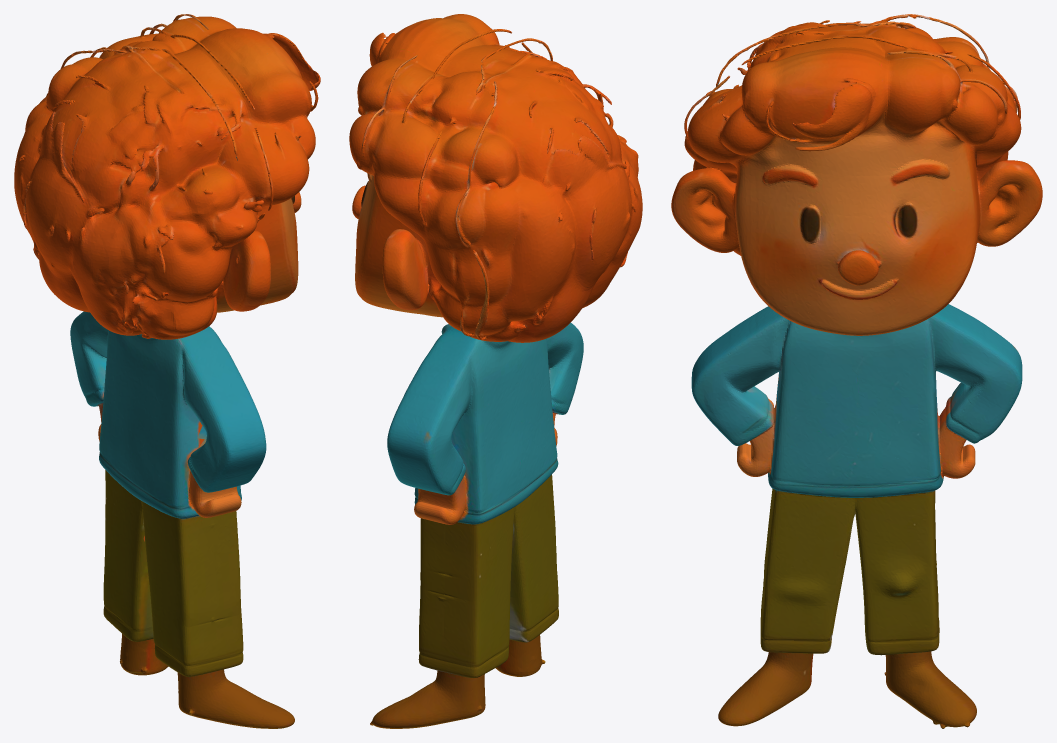
Rendered from Alex1.glb.
The picture shows the model from 3 angles, left to right: view 1: azimuth 30°, elevation 25°; view 2: azimuth 150°, elevation 25°; view 3: azimuth 270°, elevation 25°; orthographic projection. The views are drawn at different scales.
Parts seen in each view (by area): view 1: tripo_node_8d96824f-4035-46a3-b191-8319ebded00d; view 2: tripo_node_8d96824f-4035-46a3-b191-8319ebded00d; view 3: tripo_node_8d96824f-4035-46a3-b191-8319ebded00d.
Part boxes in pixels (box(x1,y1,x2,y2)): tripo_node_8d96824f-4035-46a3-b191-8319ebded00d: box(14, 14, 320, 728); tripo_node_8d96824f-4035-46a3-b191-8319ebded00d: box(349, 14, 642, 728); tripo_node_8d96824f-4035-46a3-b191-8319ebded00d: box(671, 14, 1042, 728).
Bounding box in the file's own units: 0.414 × 1 × 0.4948.
1 material, 1 textured.
